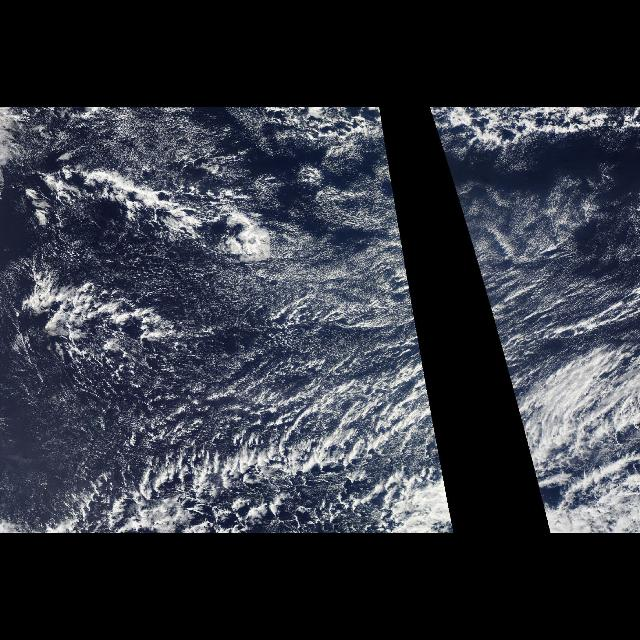Fish: (96, 442, 444, 514), (91, 162, 313, 270)
Gravel: (59, 376, 453, 528)
Sugar: (56, 134, 424, 370), (438, 134, 638, 370)
